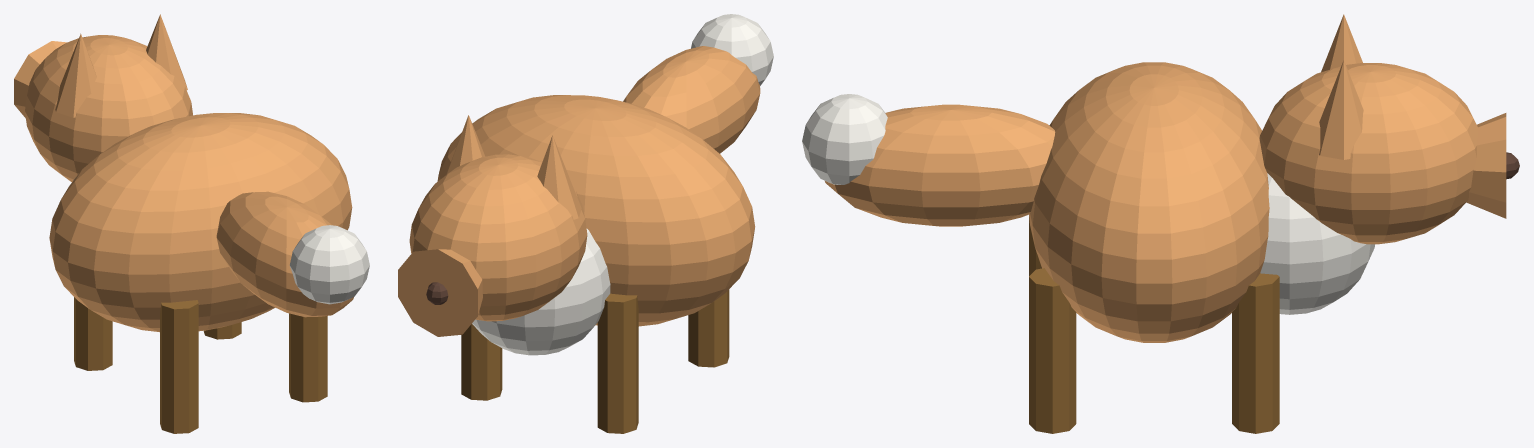
Rendered from fox.glb.
3 renders of one model, left to right at view 1: azimuth 30°, elevation 25°; view 2: azimuth 150°, elevation 25°; view 3: azimuth 270°, elevation 25°, orthographic. The views are drawn at different scales.
Visible parts, largest first — view 1: fox; view 2: fox; view 3: fox.
Part boxes in pixels (x1,y1,x2,y2): fox: (14, 14, 369, 433); fox: (398, 14, 773, 433); fox: (802, 14, 1519, 433).
Size of the model in its own units: 0.5662 by 0.57 by 1.06.
